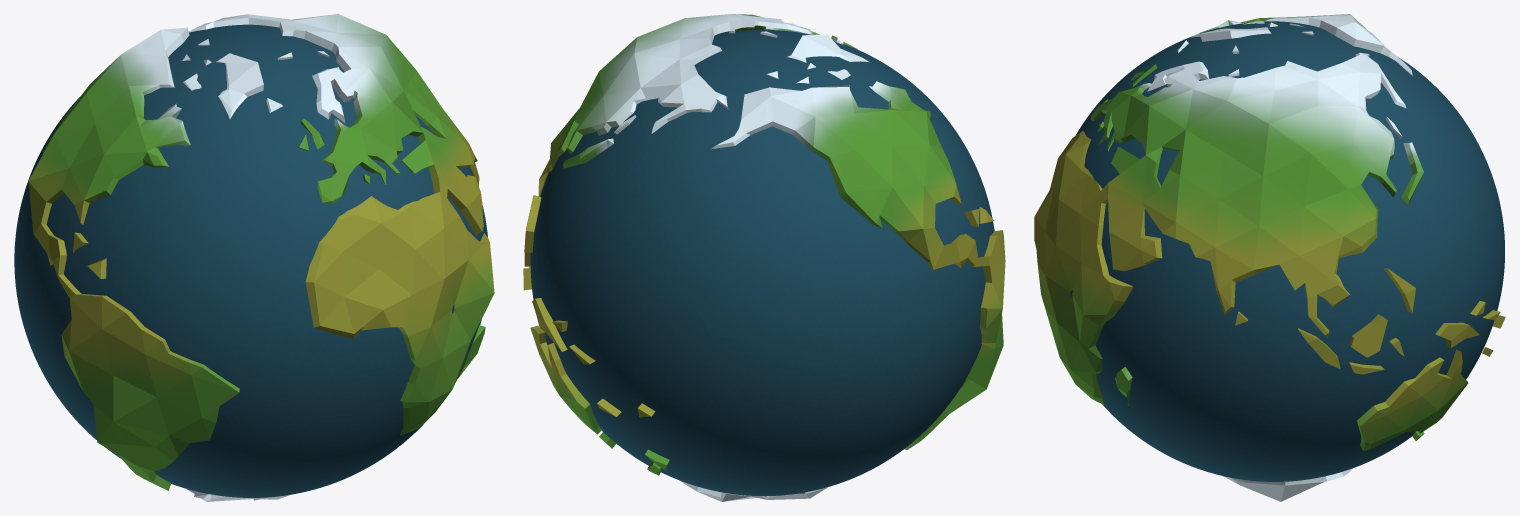
File: worldmap.glb
The picture shows the model from 3 angles, left to right: view 1: azimuth 30°, elevation 25°; view 2: azimuth 150°, elevation 25°; view 3: azimuth 270°, elevation 25°; orthographic projection. The views are drawn at different scales.
Parts seen in each view (by area): view 1: ocean, land_base; view 2: ocean, land_base; view 3: ocean, land_base.
Boxes of the visible parts, x1,y1,x2,y2 form: ocean: (14, 24, 487, 497); land_base: (28, 14, 494, 501); ocean: (530, 30, 994, 496); land_base: (523, 14, 1005, 501); ocean: (1070, 21, 1504, 481); land_base: (1034, 14, 1505, 501).
Bounding box in the file's own units: 17.33 × 17.94 × 17.25.
2 materials, 1 textured.
